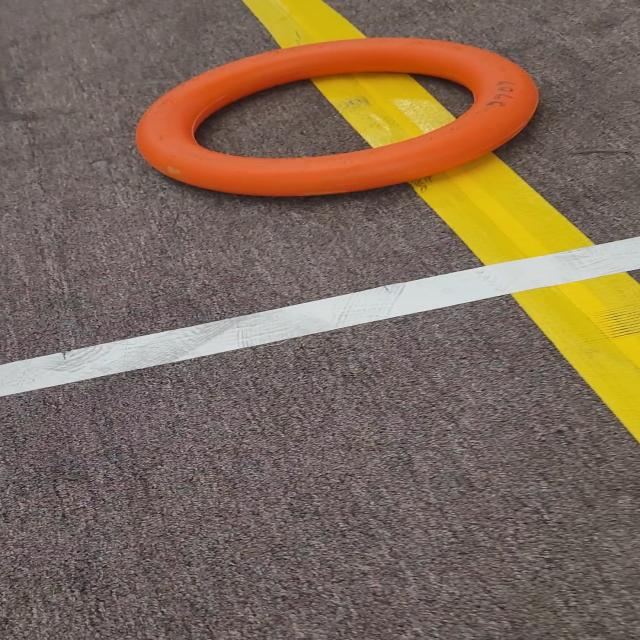note: (118, 32, 565, 204)
